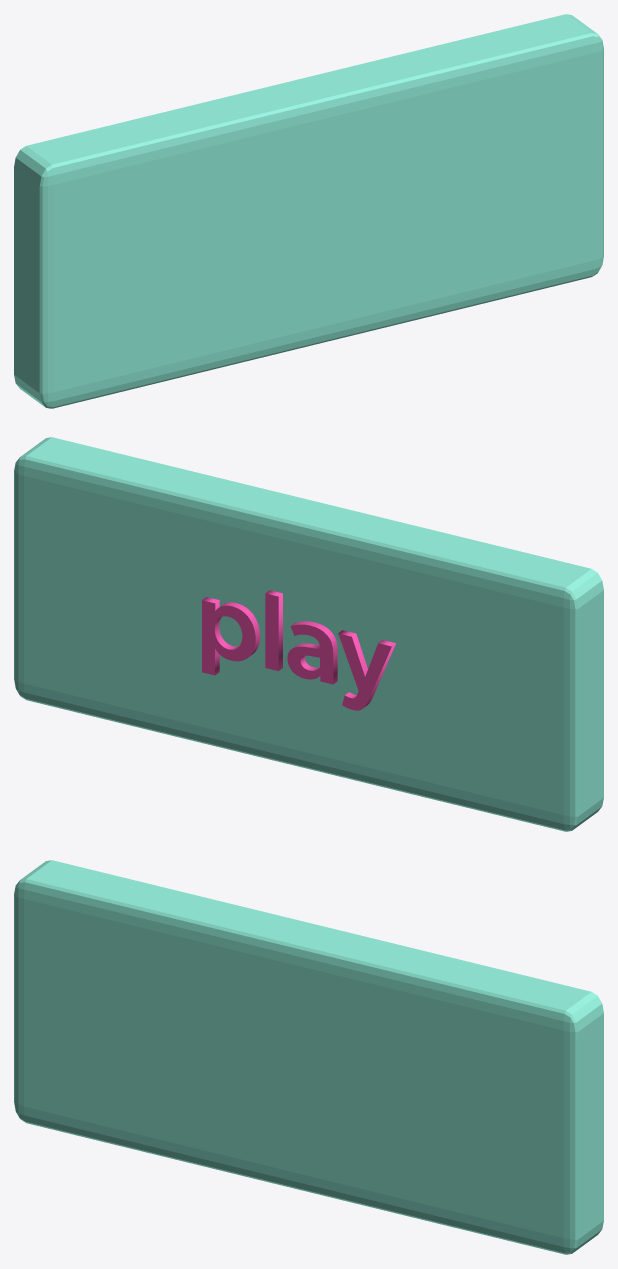
The model's file is 101_UI_PLAYbutton_.fbx.
3 renders of one model, top to bottom at view 1: azimuth 30°, elevation 25°; view 2: azimuth 150°, elevation 25°; view 3: azimuth 330°, elevation 25°, orthographic.
Parts seen in each view (by area): view 1: Cube.033; view 2: Cube.033, dress me.047; view 3: Cube.033.
Boxes of the visible parts, x1,y1,x2,y2 form: Cube.033: (14,14,603,408); Cube.033: (14,437,603,831); dress me.047: (202,590,395,710); Cube.033: (14,860,603,1254).
Bounding box in the file's own units: 102 × 42.35 × 10.95.
